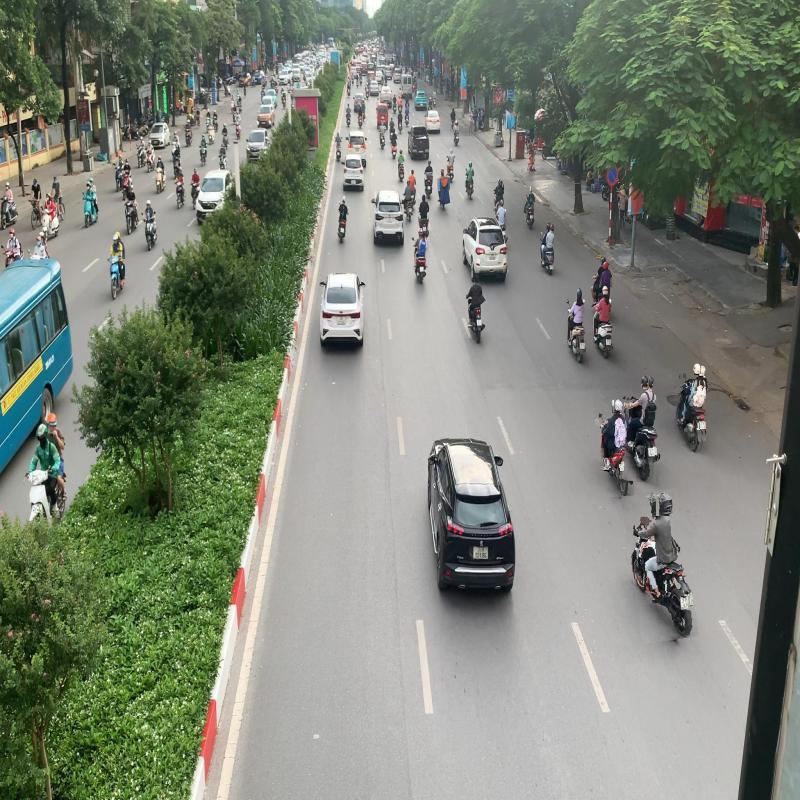helmet: (656, 492, 674, 516), (614, 398, 624, 412), (641, 375, 649, 389), (693, 364, 701, 376)
licenseplate: (680, 596, 690, 610), (620, 461, 628, 474), (650, 446, 658, 455), (699, 420, 706, 430)
motorcyclist: (626, 490, 694, 642), (622, 374, 664, 483), (595, 396, 632, 497), (674, 362, 710, 453)
